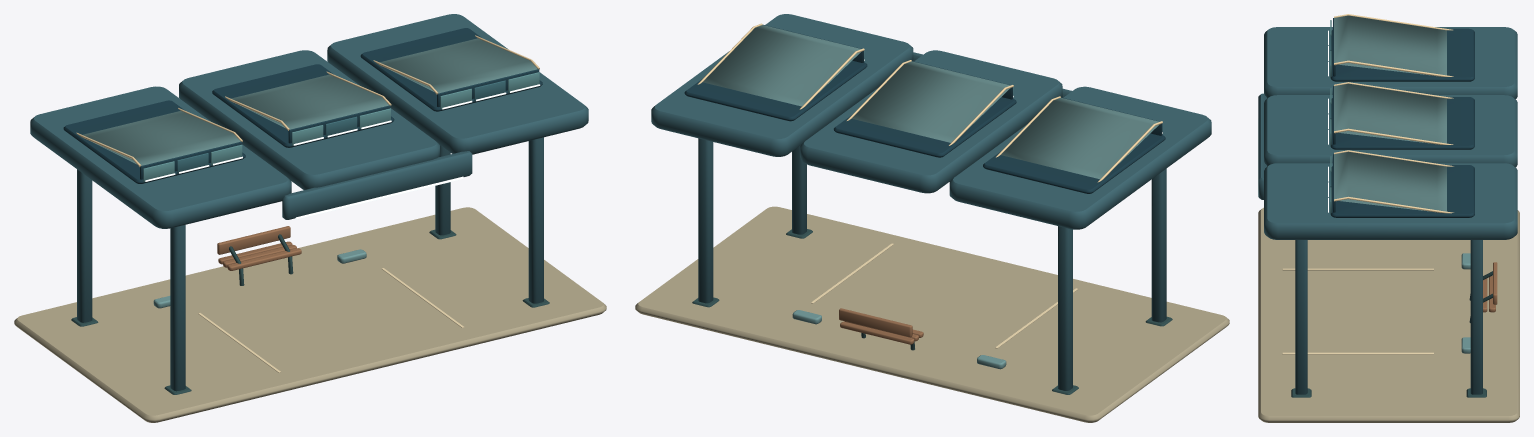
The model's file is harbor_transport.glb.
3 renders of one model, left to right at view 1: azimuth 30°, elevation 25°; view 2: azimuth 150°, elevation 25°; view 3: azimuth 270°, elevation 25°, orthographic. The views are drawn at different scales.
Visible parts, largest first — view 1: HarborTransport; view 2: HarborTransport; view 3: HarborTransport.
Boxes of the visible parts, bbox=[...] form: HarborTransport: bbox=[14, 14, 606, 422]; HarborTransport: bbox=[635, 14, 1229, 422]; HarborTransport: bbox=[1258, 14, 1519, 422].
Bounding box in the file's own units: 10.58 × 4.95 × 5.52.
